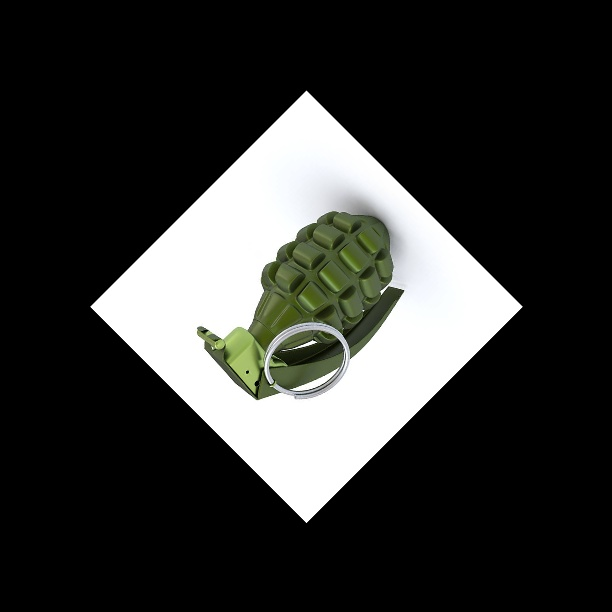e1: (195, 208, 404, 400)
